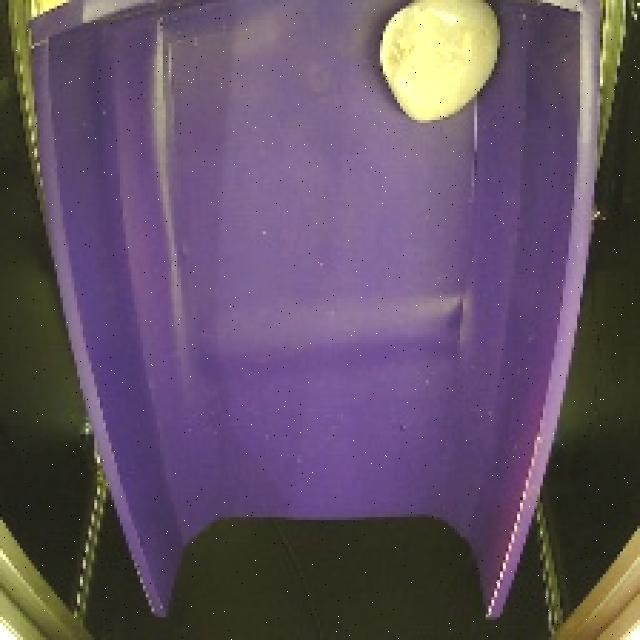cobbles: (368, 0, 508, 132)
